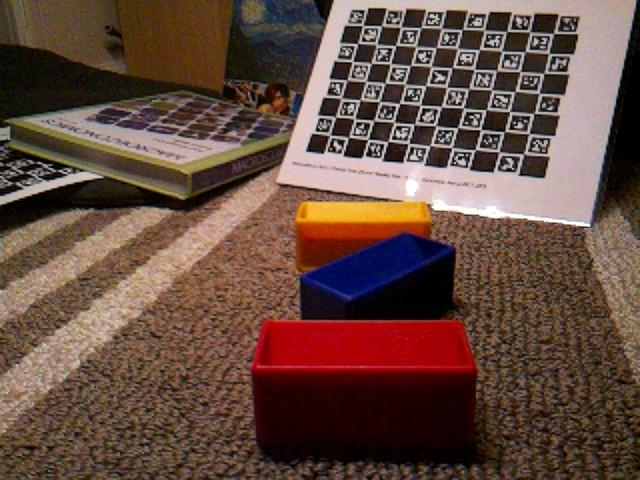blue: (298, 230, 458, 320)
red: (250, 317, 479, 460)
yellow: (293, 199, 433, 273)
